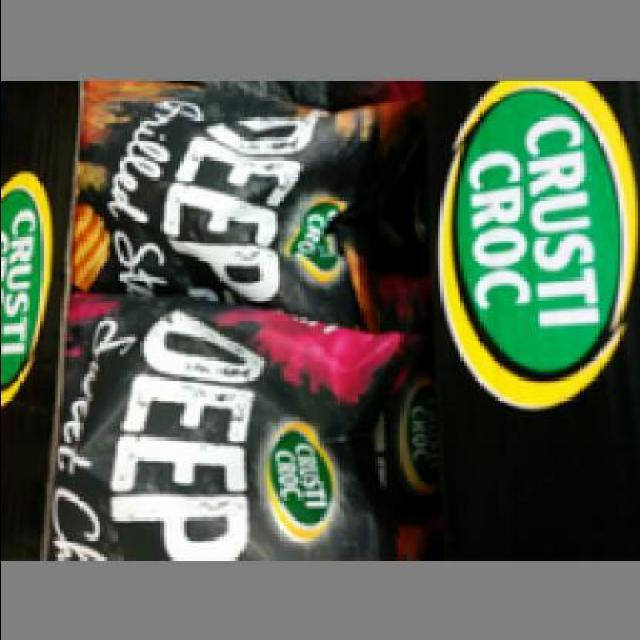Chips: (57, 286, 403, 554), (74, 80, 406, 323)
